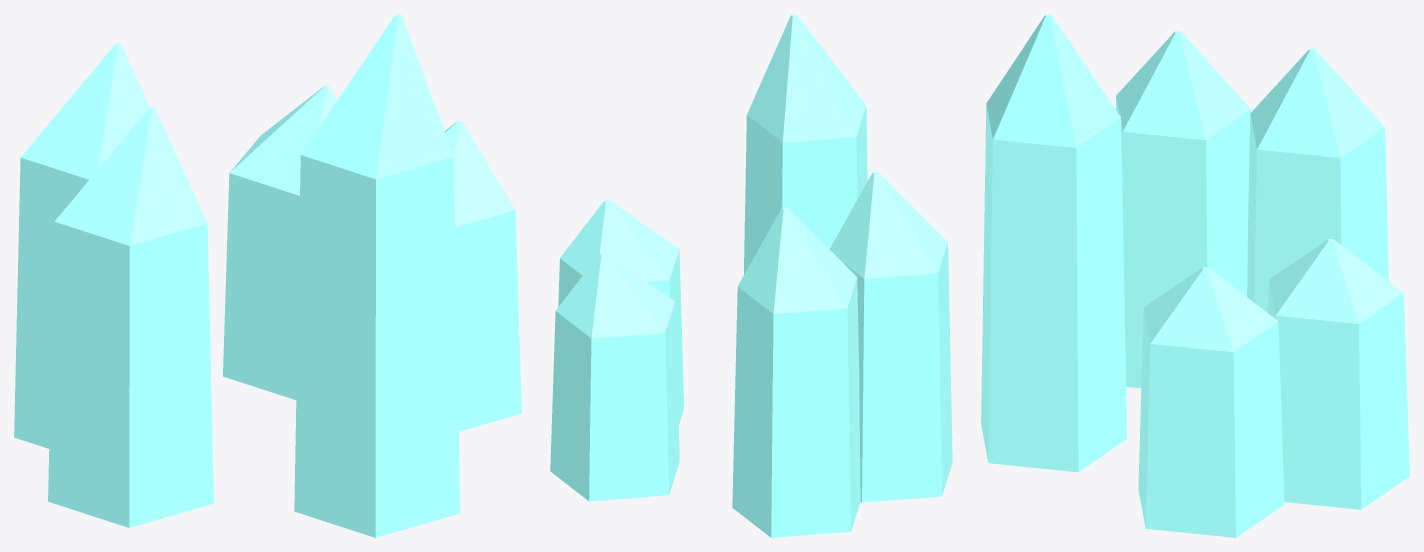
Rendered from SM_RUI_NAT_000_CrystalCluster.glb.
3 renders of one model, left to right at view 1: azimuth 30°, elevation 25°; view 2: azimuth 150°, elevation 25°; view 3: azimuth 270°, elevation 25°, orthographic. The views are drawn at different scales.
Visible parts, largest first — view 1: SM_RUI_NAT_000_CrystalCluster; view 2: SM_RUI_NAT_000_CrystalCluster; view 3: SM_RUI_NAT_000_CrystalCluster.
Boxes of the visible parts, x1,y1,x2,y2 form: SM_RUI_NAT_000_CrystalCluster: (14,14,521,537); SM_RUI_NAT_000_CrystalCluster: (550,14,952,537); SM_RUI_NAT_000_CrystalCluster: (981,14,1409,537).
Bounding box in the file's own units: 0.8022 × 0.79 × 0.7058.
